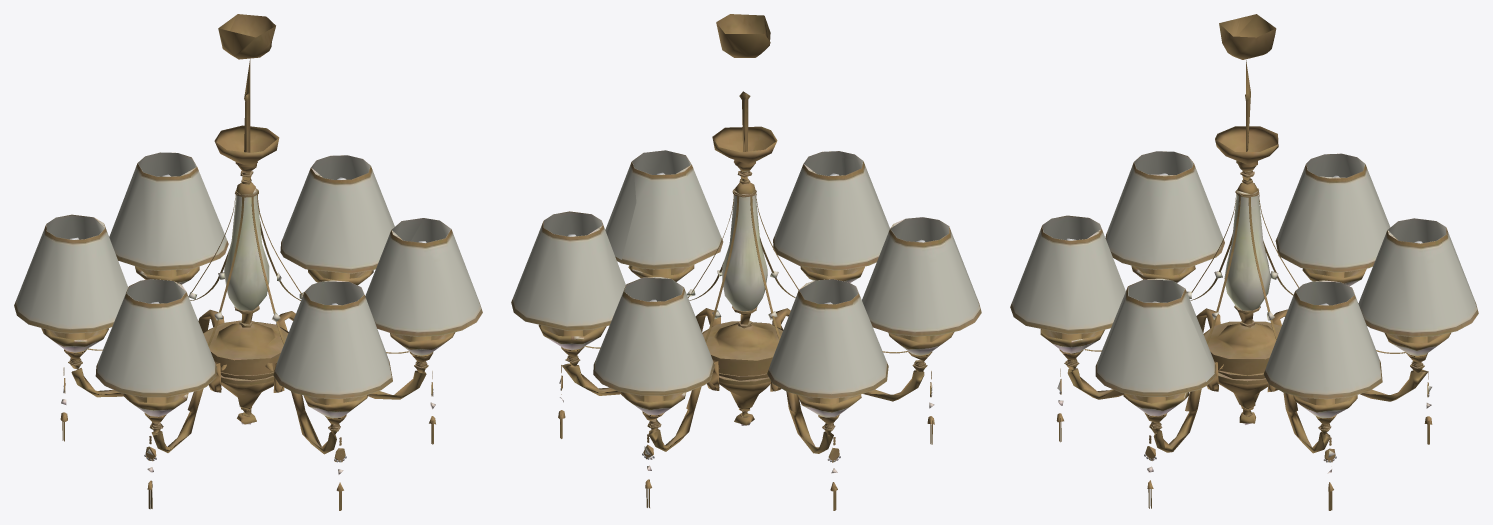
Rendered from Chandelier_01.glb.
3 renders of one model, left to right at view 1: azimuth 30°, elevation 25°; view 2: azimuth 150°, elevation 25°; view 3: azimuth 270°, elevation 25°, orthographic.
Parts seen in each view (by area): view 1: Chandelier_01; view 2: Chandelier_01; view 3: Chandelier_01.
Boxes of the visible parts, x1,y1,x2,y2 form: Chandelier_01: (14,14,482,510); Chandelier_01: (511,14,981,510); Chandelier_01: (1010,14,1478,510).
Size of the model in its own units: 0.7465 by 0.7982 by 0.8155.
Materials: 2 (1 with a texture image).
